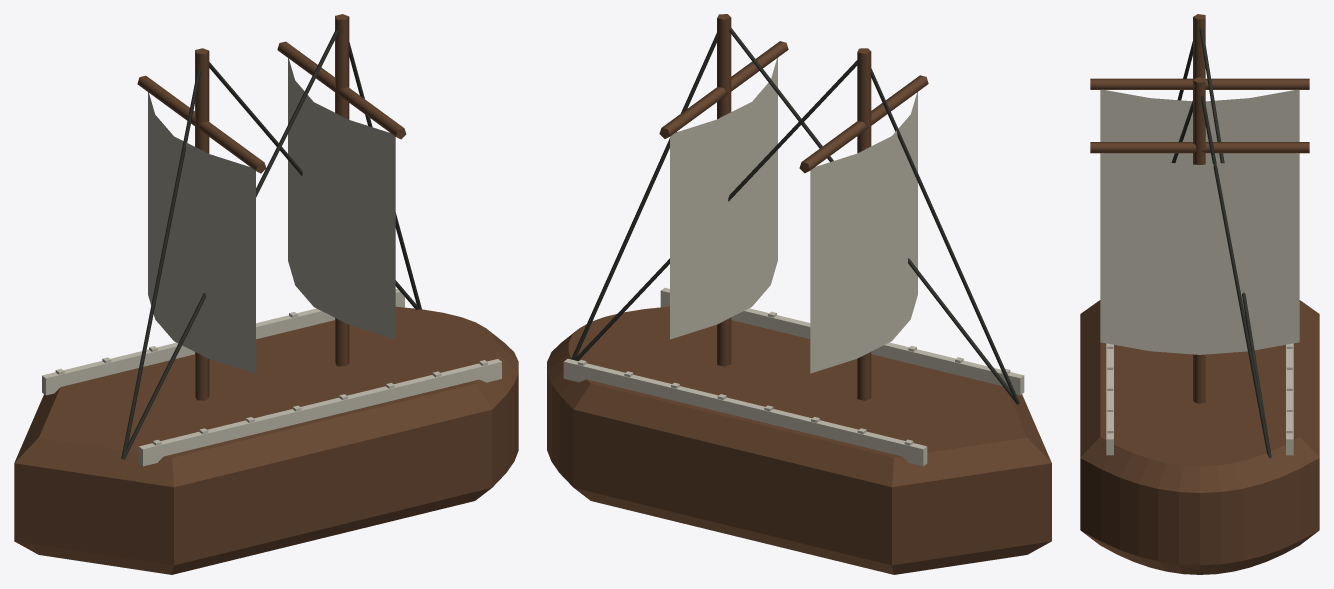
File: custom-vehicle-yelkenli.glb
The picture shows the model from 3 angles, left to right: view 1: azimuth 30°, elevation 25°; view 2: azimuth 150°, elevation 25°; view 3: azimuth 270°, elevation 25°; orthographic projection. The views are drawn at different scales.
Parts seen in each view (by area): view 1: custom-vehicle-yelkenli; view 2: custom-vehicle-yelkenli; view 3: custom-vehicle-yelkenli.
Part boxes in pixels (left/top/right/bottom): custom-vehicle-yelkenli: left=14, top=14, right=518, bottom=574; custom-vehicle-yelkenli: left=547, top=14, right=1051, bottom=574; custom-vehicle-yelkenli: left=1080, top=14, right=1319, bottom=574.
Size of the model in its own units: 1 by 0.9024 by 0.4559.
